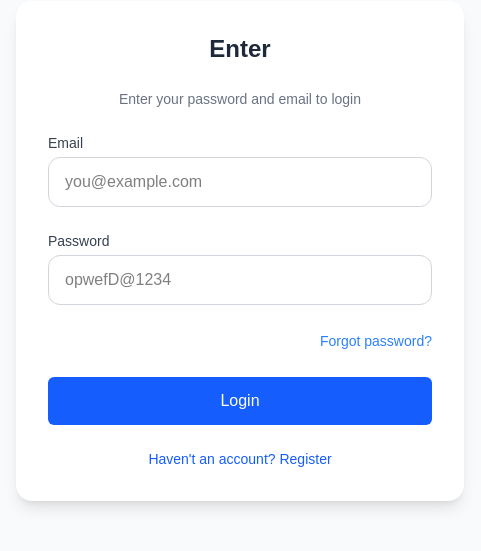
LoginForm › shows validation errors for incorrect input
Click the button "Login".
click(240, 401)  # box [48, 377, 432, 425]
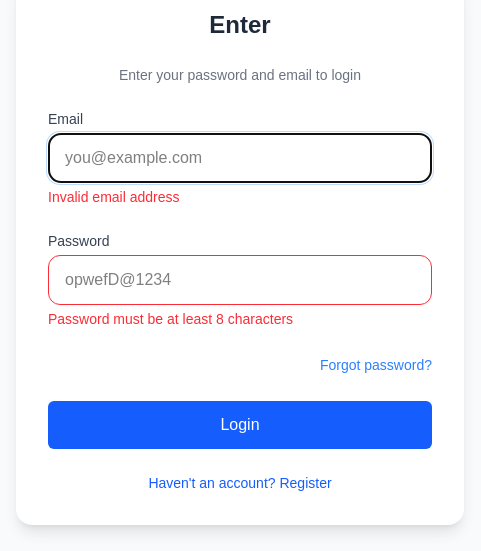
Expected: the text "Invalid email address" is shown, [48, 189, 180, 205]
Expected: the text "Password must be at least 8 characters" is shown, [48, 311, 293, 327]
